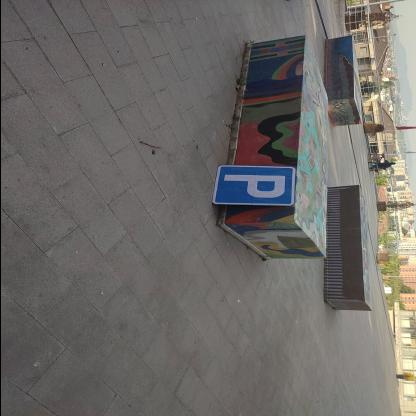Parking-Sign: (210, 165, 298, 207)
